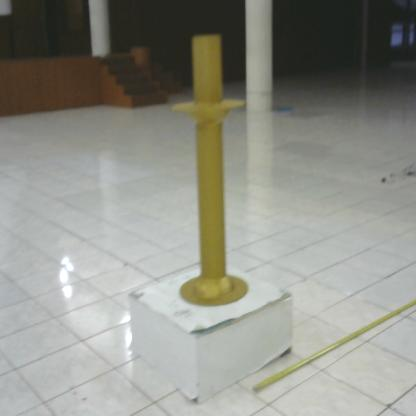pole: (168, 32, 254, 312)
